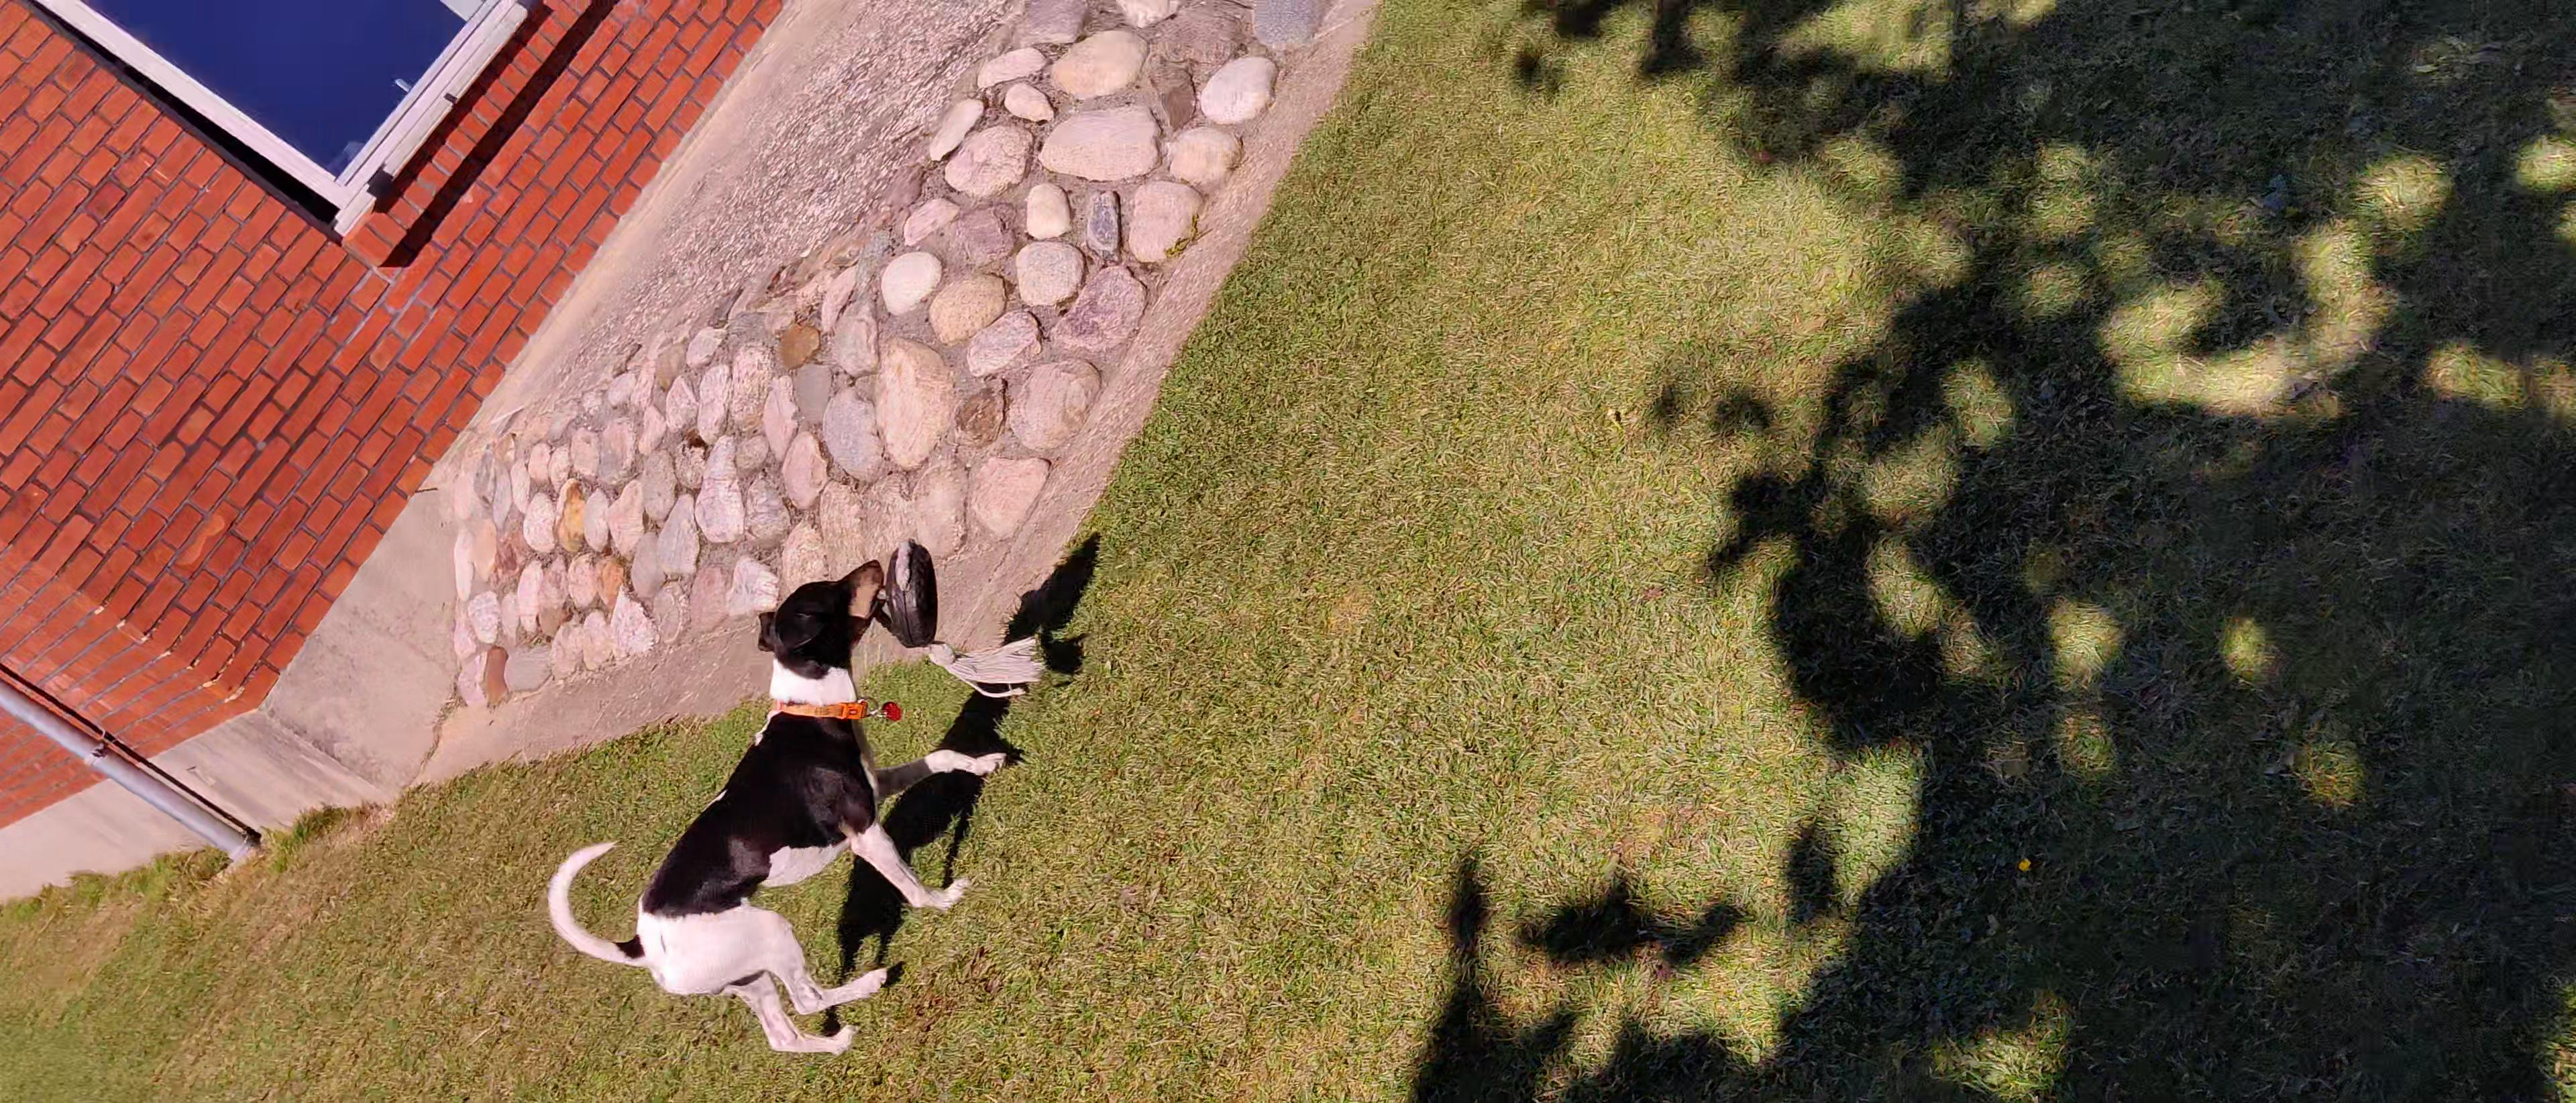Dog: (544, 556, 1010, 1065)
